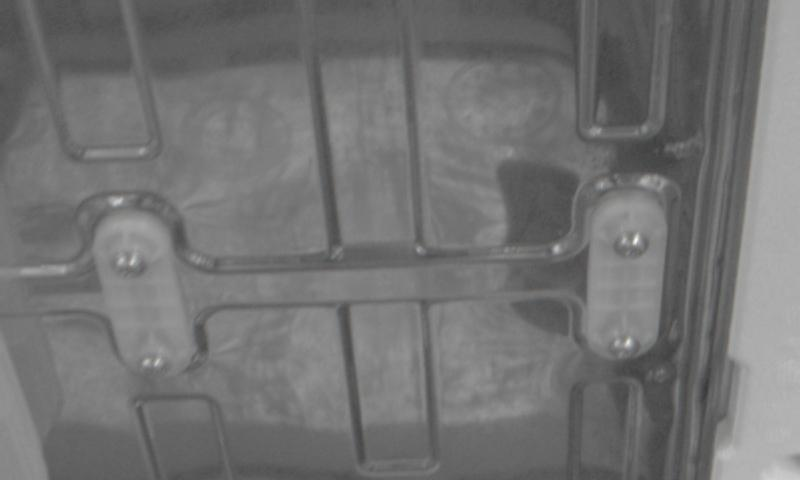vida-ok: (608, 222, 652, 267), (110, 246, 150, 291), (128, 345, 171, 385), (602, 331, 642, 369)
